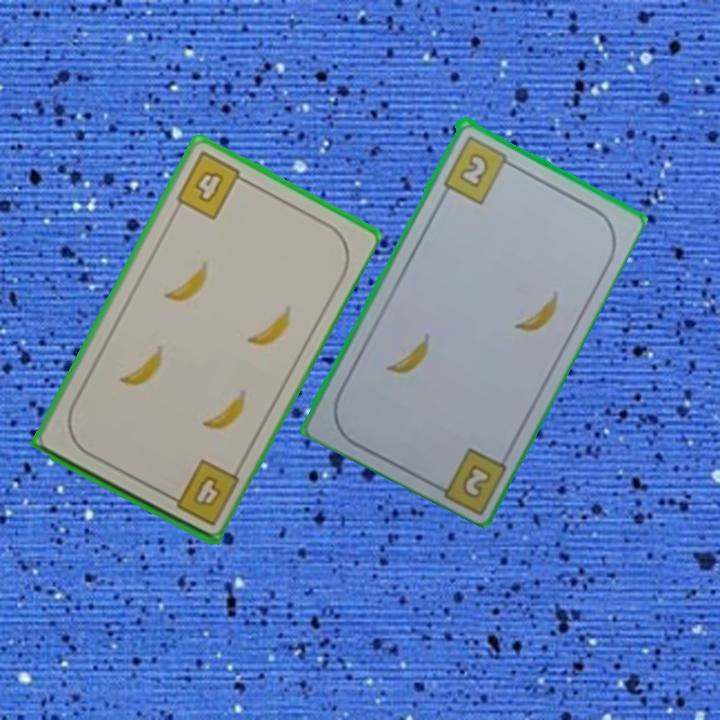2b: (439, 131, 517, 206), (458, 460, 495, 502)
4b: (172, 147, 252, 223), (161, 455, 243, 529)
